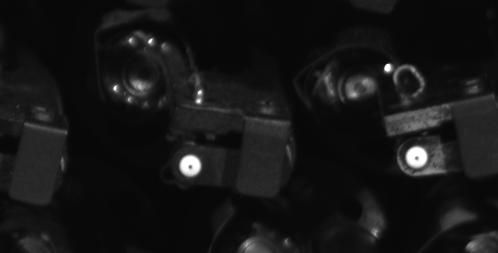fiber: (176, 151, 208, 180), (402, 144, 435, 172)
